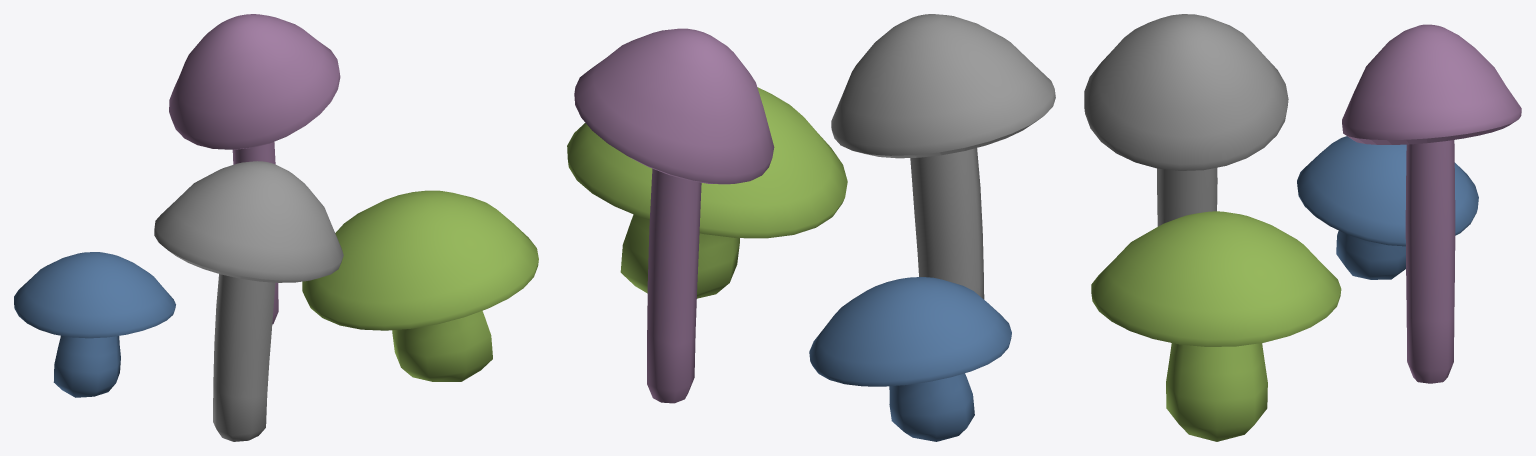
The model's file is Mushroom.FBX.
The picture shows the model from 3 angles, left to right: view 1: azimuth 30°, elevation 25°; view 2: azimuth 150°, elevation 25°; view 3: azimuth 270°, elevation 25°; orthographic projection. The views are drawn at different scales.
Parts seen in each view (by area): view 1: Small Mushroom 2, Tall Mushroom 2, Tall Mushroom 1, Small Mushroom 003; view 2: Tall Mushroom 1, Tall Mushroom 2, Small Mushroom 003, Small Mushroom 2; view 3: Small Mushroom 2, Tall Mushroom 2, Tall Mushroom 1, Small Mushroom 003.
Part boxes in pixels (bbox=[...]): Small Mushroom 2: bbox=[302, 190, 538, 381]; Tall Mushroom 2: bbox=[154, 161, 343, 441]; Tall Mushroom 1: bbox=[169, 14, 340, 324]; Small Mushroom 003: bbox=[14, 252, 175, 397]; Tall Mushroom 1: bbox=[574, 28, 774, 403]; Tall Mushroom 2: bbox=[831, 14, 1055, 299]; Small Mushroom 003: bbox=[809, 277, 1011, 441]; Small Mushroom 2: bbox=[567, 87, 847, 298]; Small Mushroom 2: bbox=[1091, 211, 1341, 441]; Tall Mushroom 2: bbox=[1084, 14, 1288, 226]; Tall Mushroom 1: bbox=[1342, 24, 1521, 383]; Small Mushroom 003: bbox=[1297, 136, 1478, 279].
Size of the model in its own units: 47.03 by 32.45 by 37.75.
